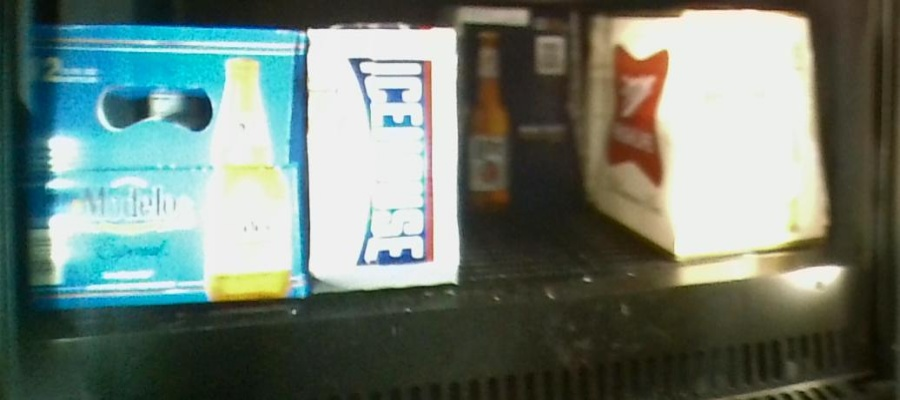bottle: (13, 27, 309, 296), (597, 14, 831, 246), (308, 24, 460, 289), (460, 2, 583, 221)
